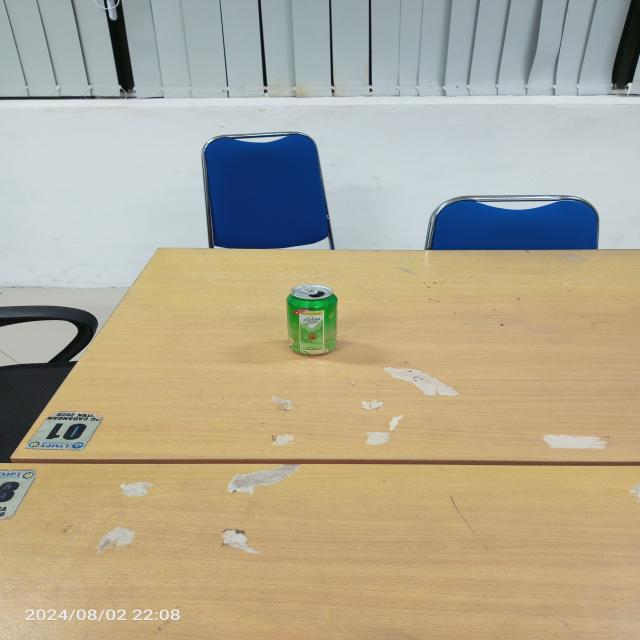ademsarikaleng: (284, 283, 338, 356)
